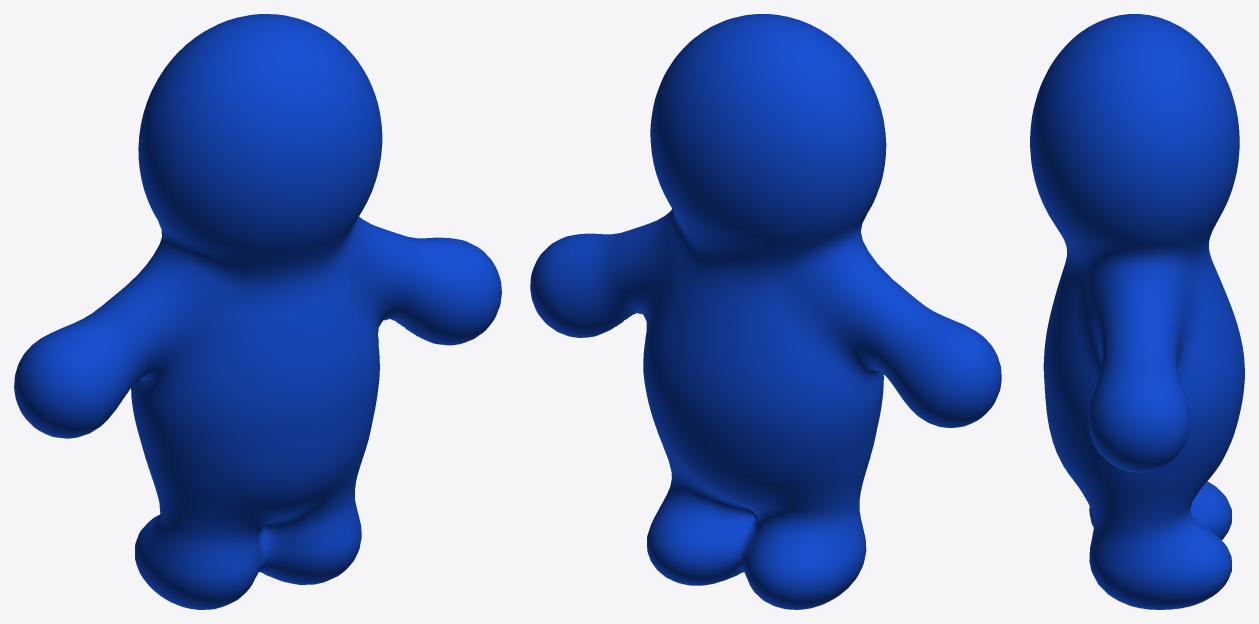
File: BlueClay_M4_Concept.obj
3 views of the same model, side by side, from view 1: azimuth 30°, elevation 25°; view 2: azimuth 150°, elevation 25°; view 3: azimuth 270°, elevation 25° (orthographic). The views are drawn at different scales.
Visible parts, largest first — view 1: BlueClay_M4_Concept; view 2: BlueClay_M4_Concept; view 3: BlueClay_M4_Concept.
Boxes of the visible parts, x1=… form: BlueClay_M4_Concept: x1=14, y1=14, x2=501, y2=609; BlueClay_M4_Concept: x1=530, y1=14, x2=1001, y2=609; BlueClay_M4_Concept: x1=1030, y1=14, x2=1244, y2=609.
Bounding box in the file's own units: 1.71 × 1.99 × 0.6969.
